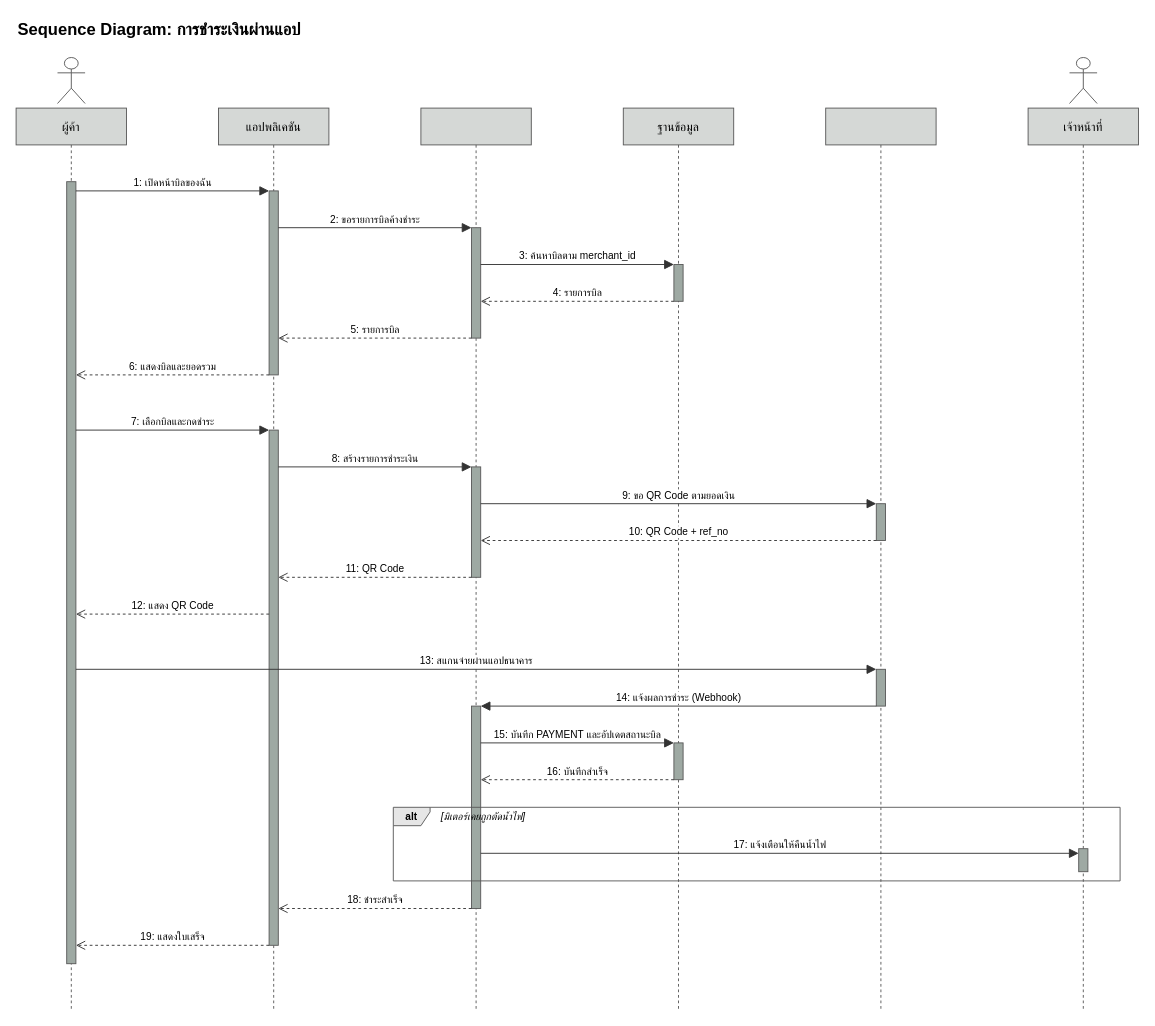
This 1155x1026 diagram has some shape labels left out. Each missing label, with the box of its shape:
ระบบชำระเงิน: (825, 107, 936, 1010)
เซิร์ฟเวอร์: (420, 107, 531, 1010)
